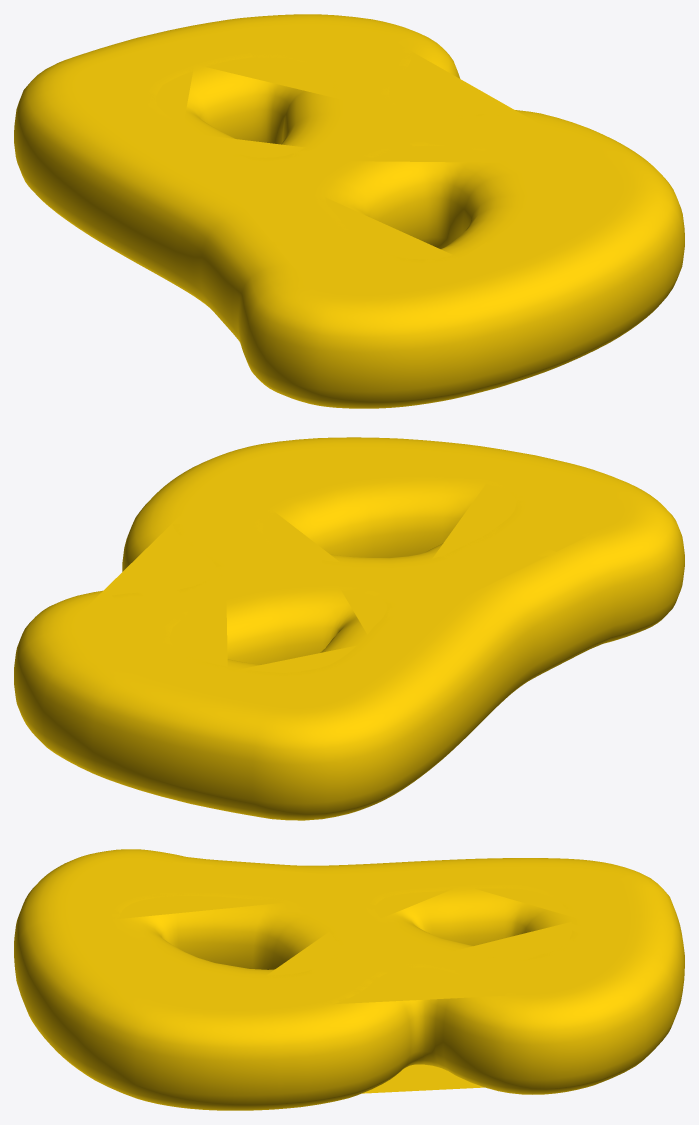
The picture shows the model from 3 angles, top to bottom: view 1: azimuth 30°, elevation 25°; view 2: azimuth 150°, elevation 25°; view 3: azimuth 270°, elevation 25°; orthographic projection. The views are drawn at different scales.
Visible parts, largest first — view 1: Curve.003; view 2: Curve.003; view 3: Curve.003.
Part boxes in pixels (left/top/right/bottom): Curve.003: left=14, top=14, right=684, bottom=408; Curve.003: left=14, top=437, right=684, bottom=820; Curve.003: left=14, top=849, right=684, bottom=1110.
Size of the model in its own units: 232 by 49.56 by 332.
Materials: 1 (1 with a texture image).
